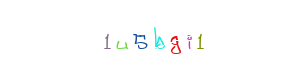1: (100, 0, 180, 80), (135, 0, 215, 80)
5: (107, 0, 187, 80)
B: (117, 0, 197, 80)
G: (118, 0, 198, 80)
I: (127, 0, 207, 80)
U: (105, 0, 185, 80)
